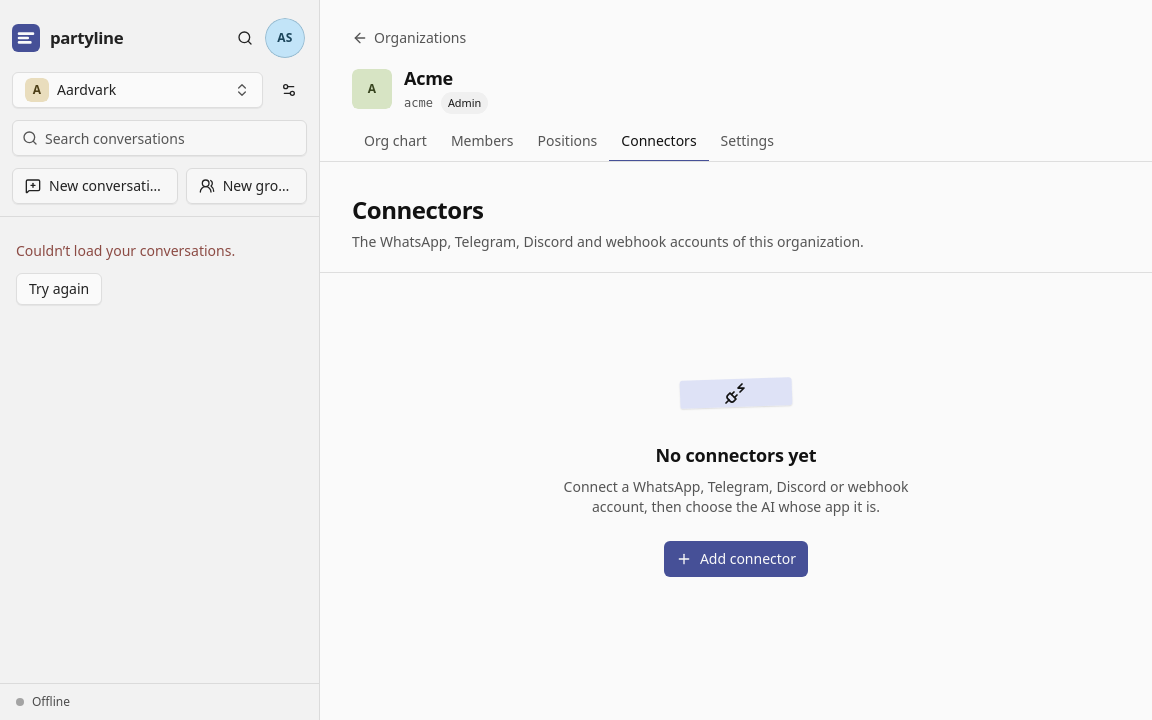
Scenario: adding a connection to an organization (ORG-03) › starts on the first organization the viewer administers when they only belong to the current one
Click the button "Add connector" at (736, 559), box [664,541,808,577]
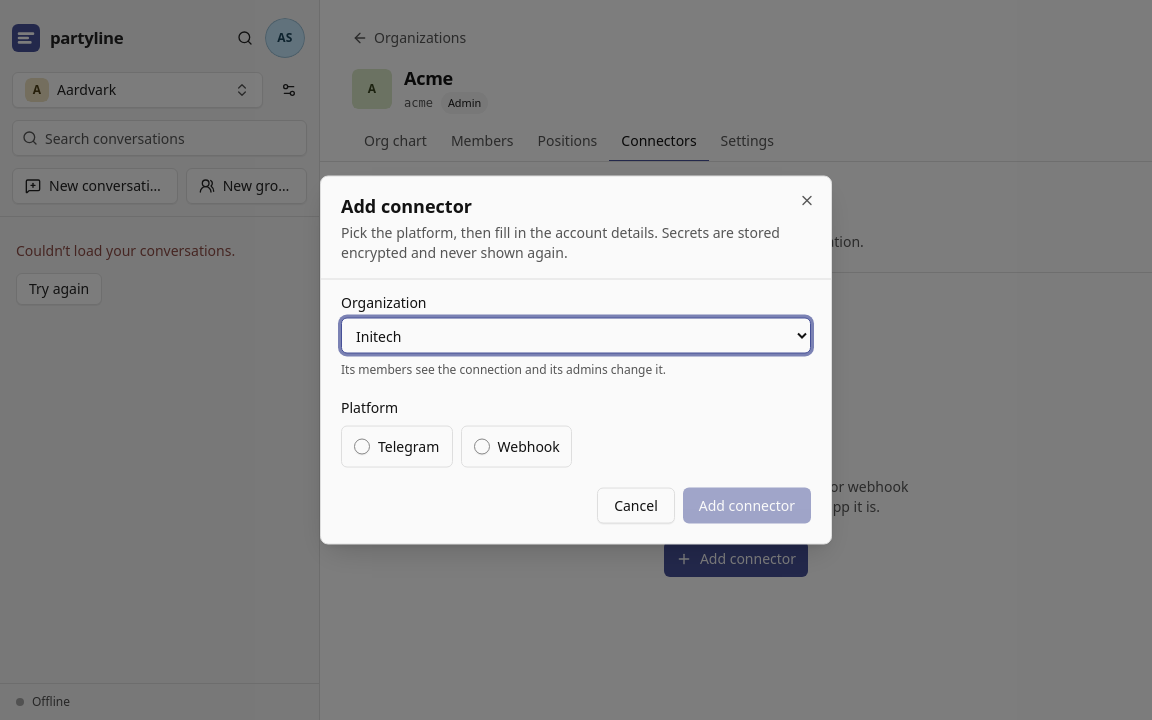
Now the dropdown labelled "Organization" shows "Initech", box [341,318,811,354]
